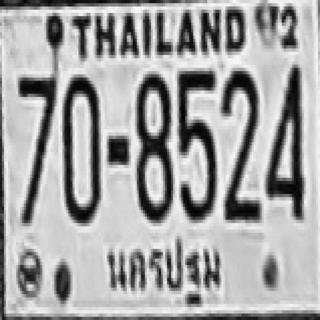N00: (62, 74, 99, 220)
N02: (220, 66, 259, 218)
N04: (264, 61, 302, 217)
N05: (177, 68, 215, 220)
N07: (17, 74, 55, 223)
N08: (135, 71, 171, 220)
P28: (99, 231, 229, 309)
